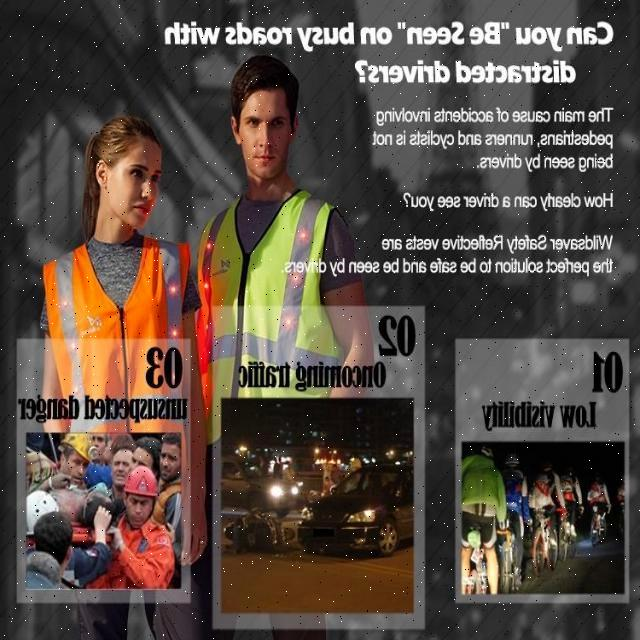Vest: (200, 199, 334, 401), (49, 243, 184, 408)
